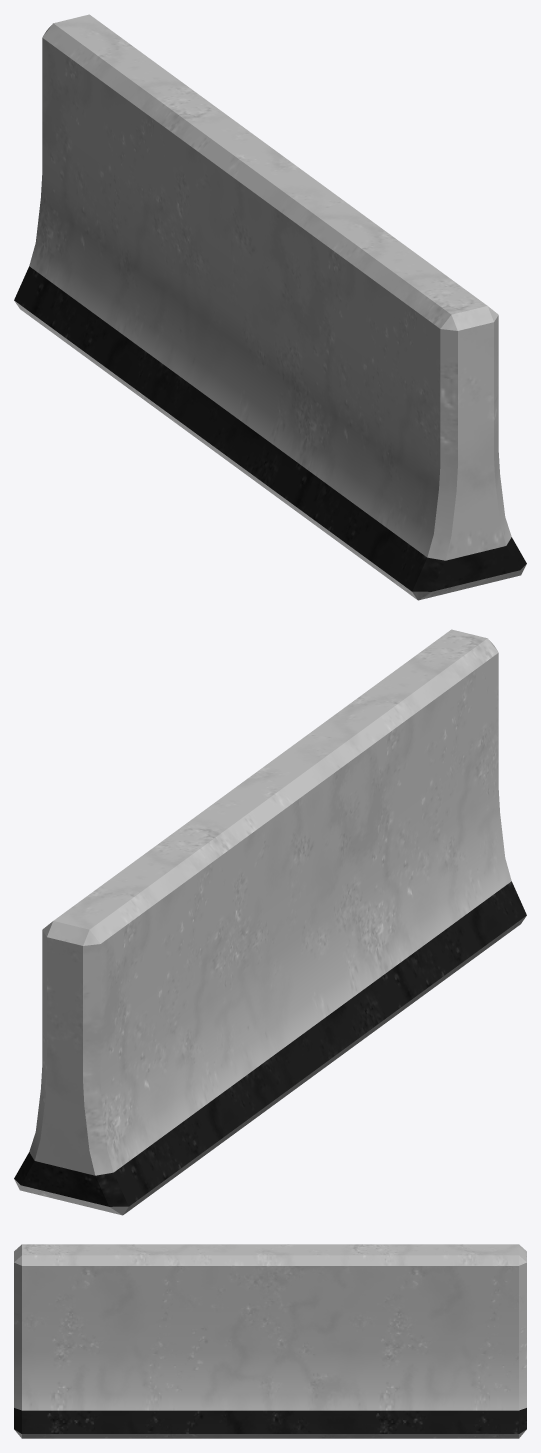
The model's file is Barricade White.fbx.
3 views of the same model, one above another, from view 1: azimuth 30°, elevation 25°; view 2: azimuth 150°, elevation 25°; view 3: azimuth 270°, elevation 25° (orthographic). The views are drawn at different scales.
Visible parts, largest first — view 1: Cube; view 2: Cube; view 3: Cube.
Boxes of the visible parts, box(x1,y1,x2,y2) form: Cube: box(14, 14, 526, 600); Cube: box(14, 629, 526, 1215); Cube: box(14, 1244, 526, 1438).
Size of the model in its own units: 82.98 by 192 by 514.
